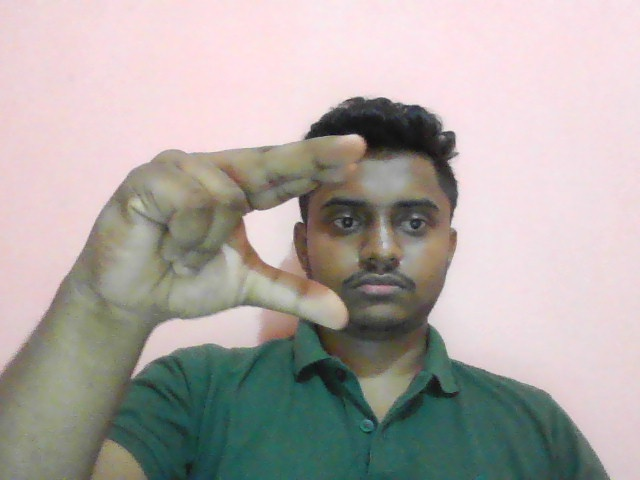No: (67, 129, 369, 339)
